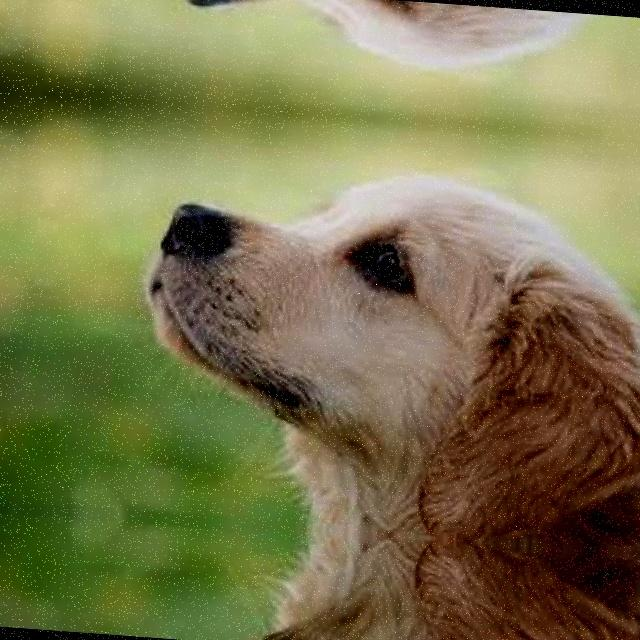dog: (126, 126, 640, 554), (120, 515, 640, 640), (147, 0, 640, 116)
